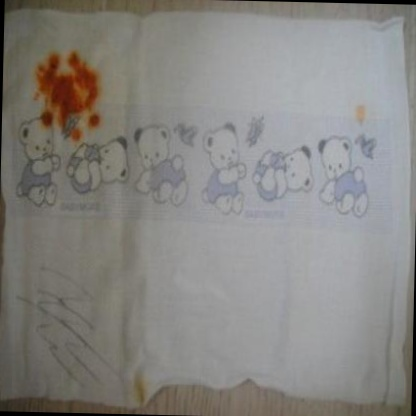kimchi: (30, 52, 104, 138), (48, 79, 85, 113), (352, 99, 373, 128), (66, 53, 86, 73), (41, 53, 61, 71), (39, 106, 56, 127), (71, 126, 85, 142), (91, 113, 103, 126)
